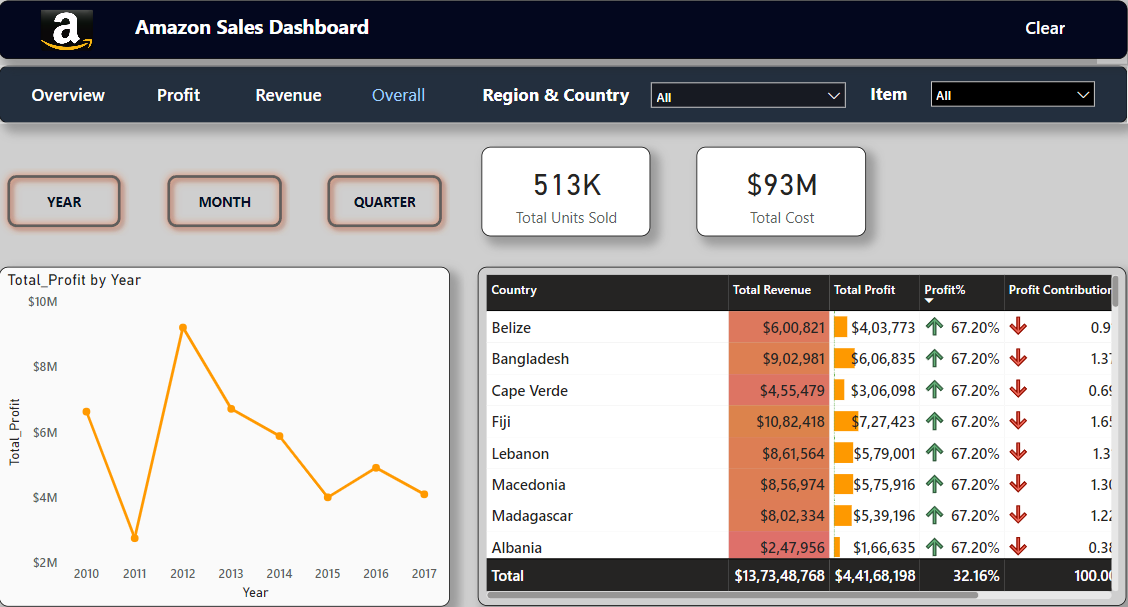

Layout of this report page (visuals, bound fields, positions):
{"tool":"powerbi","page":{"name":"Overall","canvas":[1280,720],"ordinal":3},"visuals":[{"type":"actionButton","title":"Year","box":[27,203.9,140.5,74.3],"z":0},{"type":"actionButton","title":"Quarter","box":[372.7,203.9,141.8,74.3],"z":1000},{"type":"actionButton","title":"Month","box":[199.9,203.9,141.8,74.3],"z":2000},{"type":"tableEx","title":"Total_Profit by Year","fields":{"Values":["Amazon Sales data.Country","Amazon Sales data.Total_Revenue","Amazon Sales data.Total_Profit","Amazon Sales data.Profit%","Amazon Sales data.Profit Contribution %","Amazon Sales data.Revenue Contribution %"]},"box":[544.1,312.5,700.9,366.8],"z":3000},{"type":"card","fields":{"Values":["Amazon Sales data.total unit sold"]},"box":[547.7,182.2,182.2,96.5],"z":4000},{"type":"card","fields":{"Values":["Amazon Sales data.Total_Cost"]},"box":[780.6,182.2,183.4,96.5],"z":5000},{"type":"lineChart","fields":{"Category":["Amazon Sales data.Order Date.Variation.Date Hierarchy.Year"],"Y":["Amazon Sales data.Total_Profit"]},"box":[27,312,487.5,367.3],"z":6000},{"type":"textbox","box":[27,94.6,1218.9,62.2],"z":9000},{"type":"textbox","box":[27,24.3,1218.9,63.5],"z":10000},{"type":"image","box":[66.2,29.7,68.9,54.1],"z":11000},{"type":"textbox","box":[168.9,32.4,279.7,48.6],"z":12000},{"type":"actionButton","title":"Clear 3","box":[1106.8,33.8,100,39.2],"z":13000},{"type":"pageNavigator","box":[47.3,103.7,468.9,43.2],"z":14000},{"type":"slicer","fields":{"Values":["Amazon Sales data.Country","Amazon Sales data.Region"]},"box":[727,108.4,220.3,36.5],"z":15000},{"type":"textbox","box":[544.6,108.4,182.4,36.5],"z":16000},{"type":"textbox","box":[954.1,107,70.3,36.5],"z":17000},{"type":"slicer","fields":{"Values":["Amazon Sales data.Item Type"]},"box":[1024.3,101.6,197.3,48.6],"z":18000}]}

Visuals, with their boxes on the page's 1280x720 design canvas (x1, y1, x2, y2). These are canvas units, not pixel positions in the 1128x607 screenshot, which may show the page scaled, cropped or inside an application window:
"Year" actionButton: bbox=(27, 204, 168, 278)
"Quarter" actionButton: bbox=(373, 204, 514, 278)
"Month" actionButton: bbox=(200, 204, 342, 278)
"Total_Profit by Year" tableEx: bbox=(544, 312, 1245, 679)
card - Amazon Sales data.total unit sold: bbox=(548, 182, 730, 279)
card - Amazon Sales data.Total_Cost: bbox=(781, 182, 964, 279)
lineChart - Amazon Sales data.Order Date.Variation.Date Hierarchy.Year x Amazon Sales data.Total_Profit: bbox=(27, 312, 514, 679)
textbox: bbox=(27, 95, 1246, 157)
textbox: bbox=(27, 24, 1246, 88)
image: bbox=(66, 30, 135, 84)
textbox: bbox=(169, 32, 449, 81)
"Clear 3" actionButton: bbox=(1107, 34, 1207, 73)
pageNavigator: bbox=(47, 104, 516, 147)
slicer - Amazon Sales data.Country x Amazon Sales data.Region: bbox=(727, 108, 947, 145)
textbox: bbox=(545, 108, 727, 145)
textbox: bbox=(954, 107, 1024, 144)
slicer - Amazon Sales data.Item Type: bbox=(1024, 102, 1222, 150)
